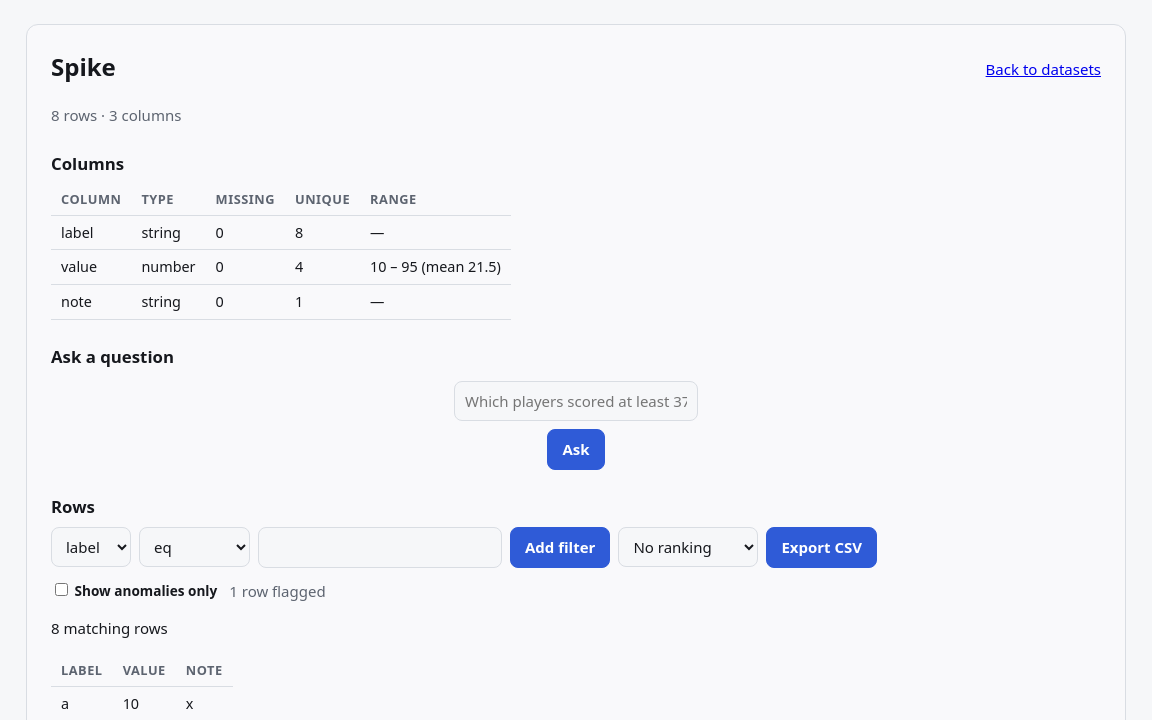
ask box › reports a question the server could not answer, and shows no result
Check: the text "8 matching rows" is shown, box [51,618,168,638]
Type "what is the salary?" into the field with test id "ask-input".
click(576, 401); type("what is the salary?")  # box [454,381,698,421]
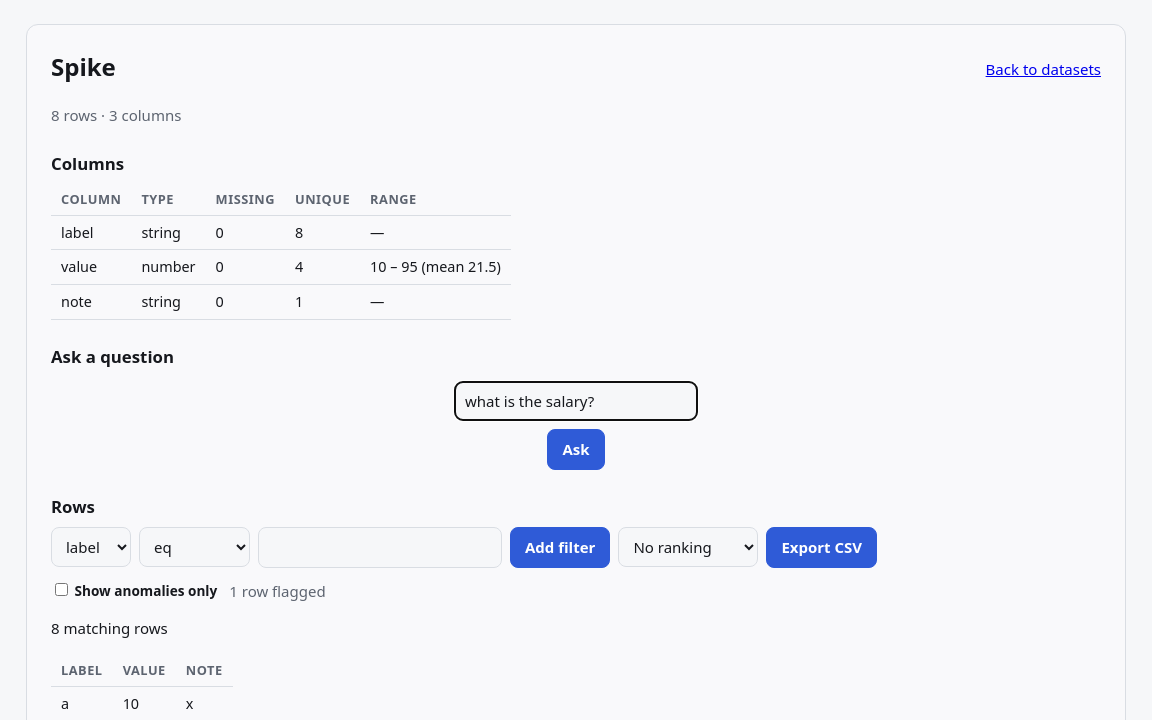
Click the button with test id "ask-submit".
click(576, 450)  # box [547,429,604,470]
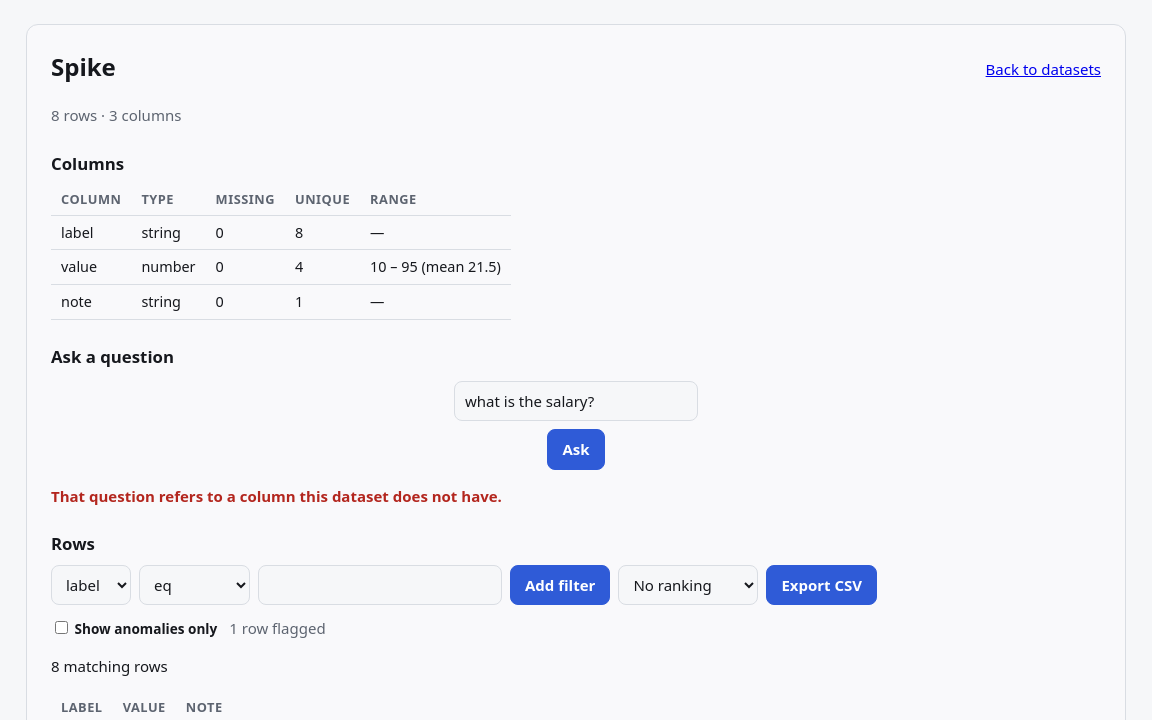
Check: the message with test id "ask-error" reads "That question refers to a column this dataset does not have.", box [51,486,502,506]
